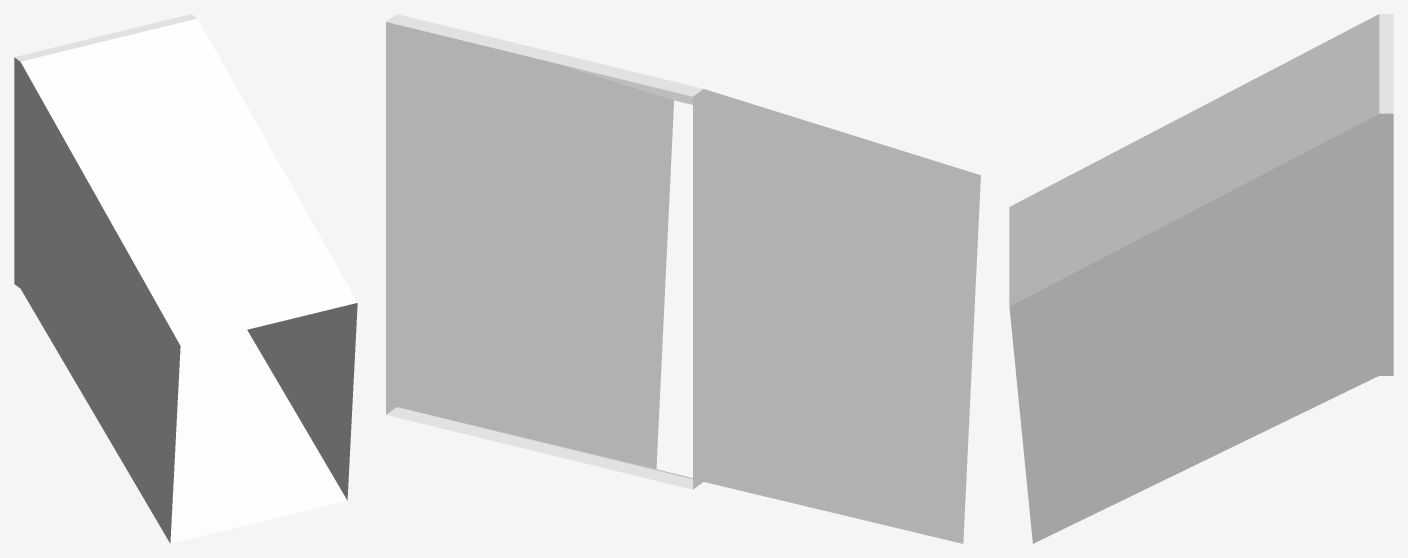
The model's file is set_add_effect_01_01.fbx.
3 views of the same model, side by side, from view 1: azimuth 30°, elevation 25°; view 2: azimuth 150°, elevation 25°; view 3: azimuth 270°, elevation 25° (orthographic). The views are drawn at different scales.
Visible parts, largest first — view 1: set_add_effect_01_01; view 2: set_add_effect_01_01; view 3: set_add_effect_01_01.
Boxes of the visible parts, x1=… form: set_add_effect_01_01: x1=14, y1=14, x2=357, y2=543; set_add_effect_01_01: x1=386, y1=14, x2=980, y2=543; set_add_effect_01_01: x1=1009, y1=14, x2=1393, y2=543.
Size of the model in its own units: 87.04 by 175 by 142.
